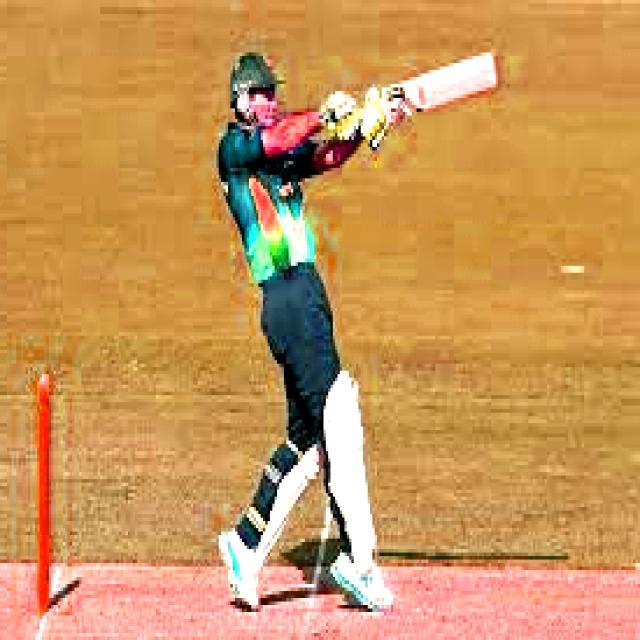toe: (488, 46, 501, 97)
